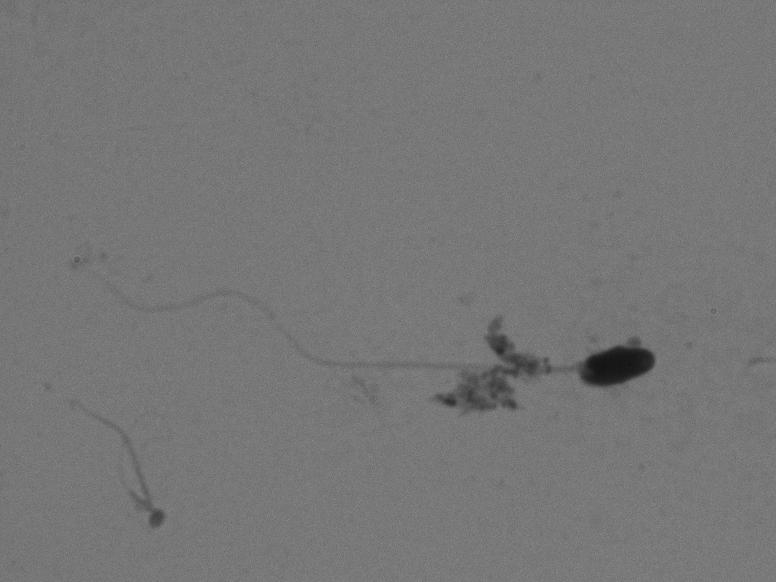Abnormal: (92, 247, 665, 399)
